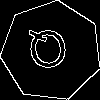Q: (26, 26, 70, 79)
